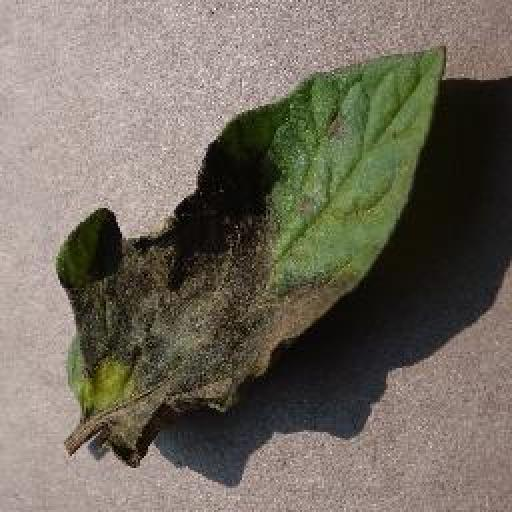Late Blight: (56, 46, 444, 466)
